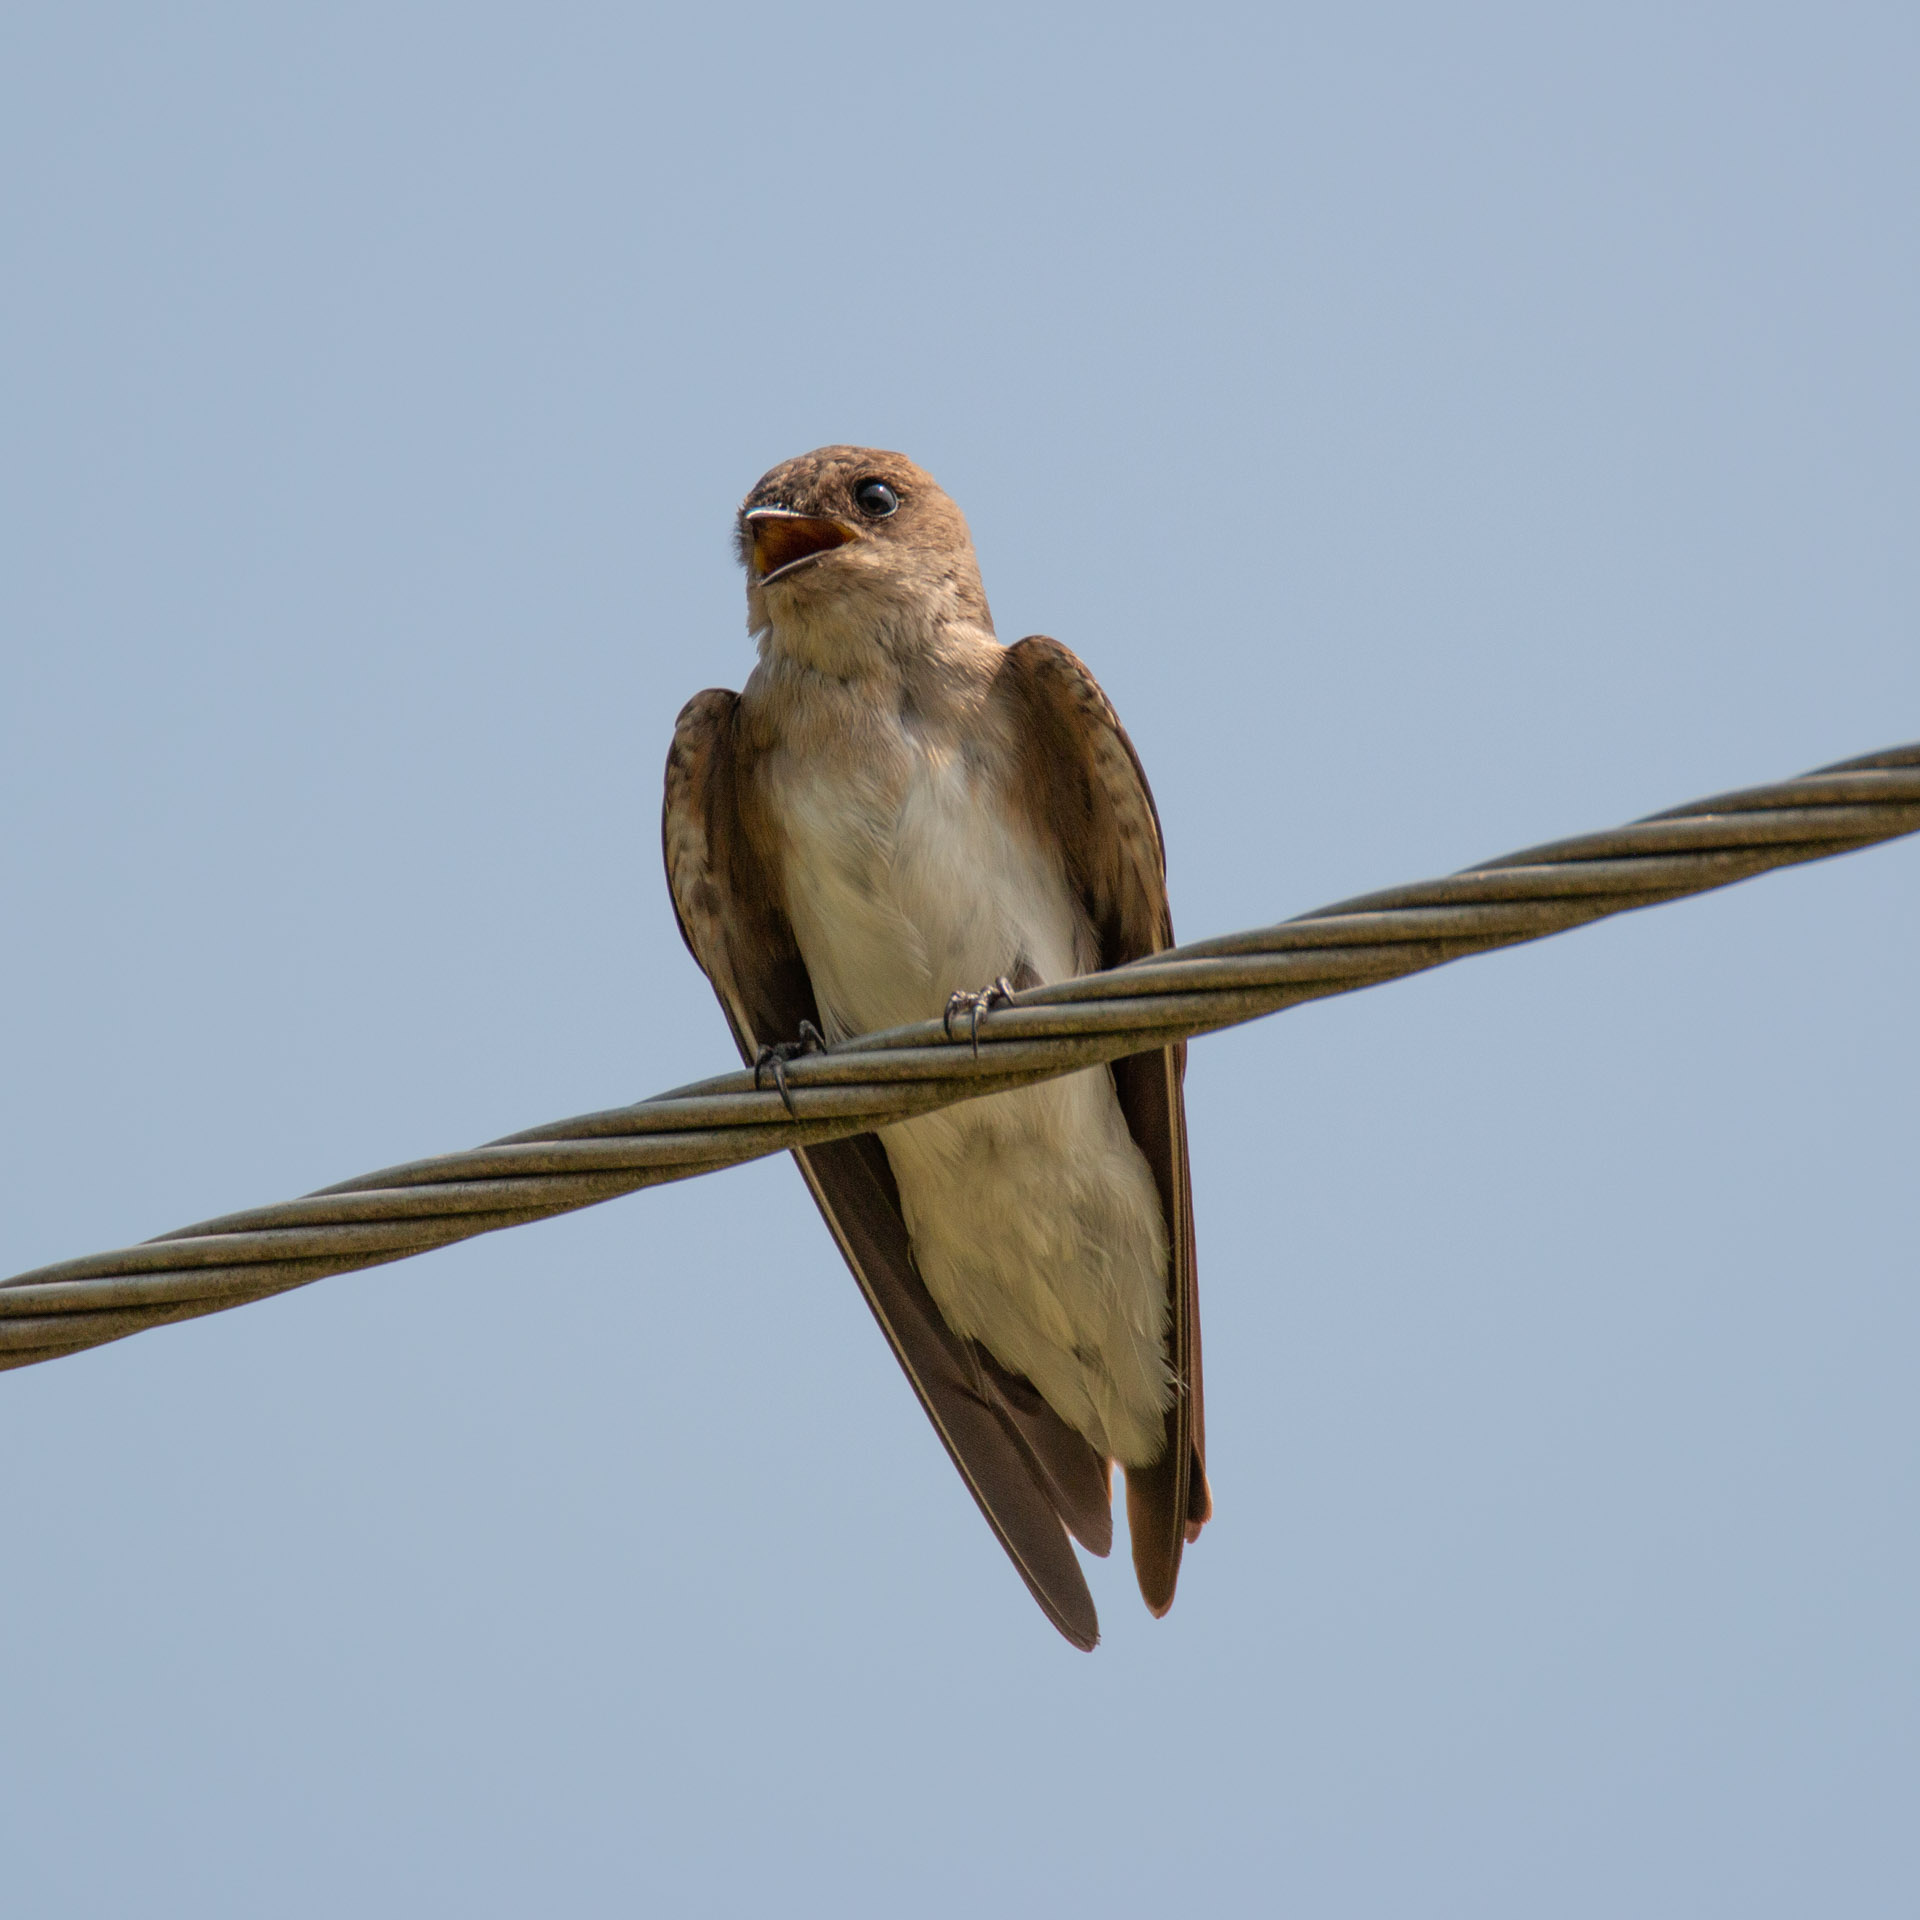bird: (614, 406, 1255, 1665)
